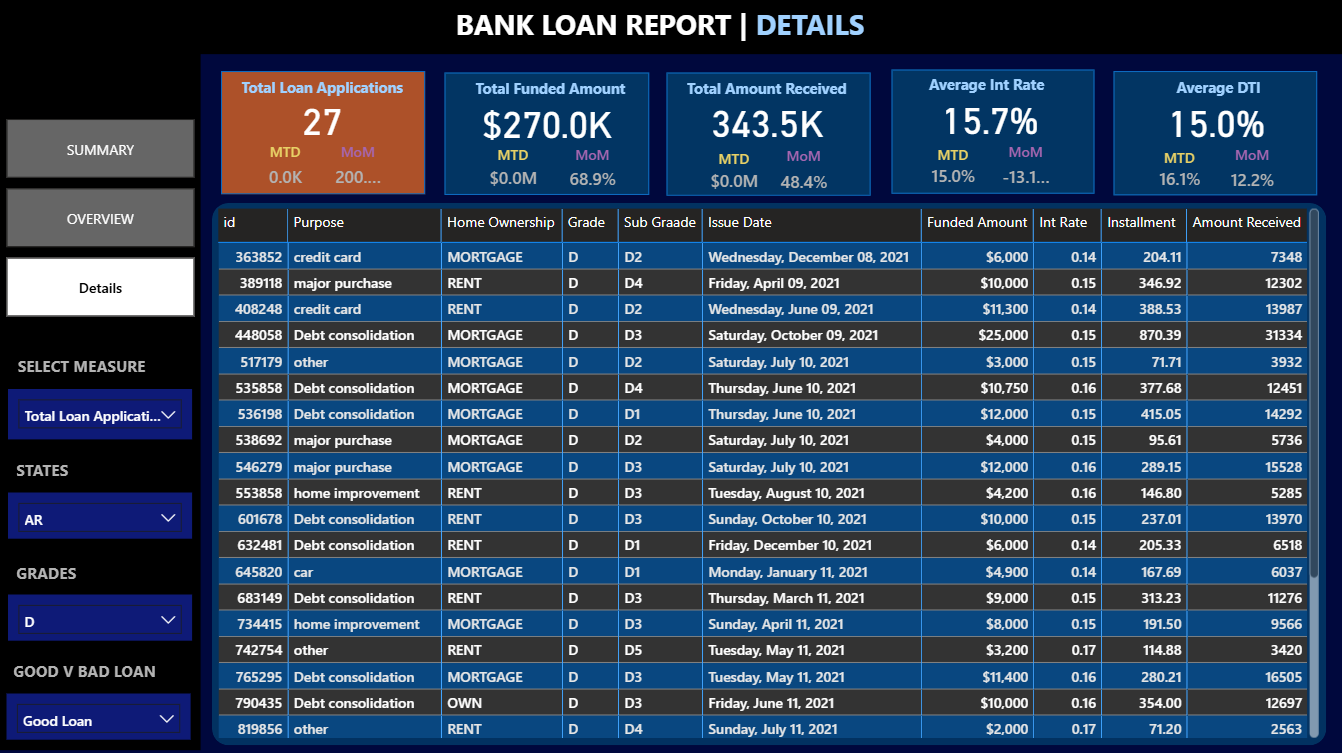

This screenshot's page, from the dashboard's own definition file:
{"tool":"powerbi","page":{"name":"Details","canvas":[1280,720],"ordinal":2},"visuals":[{"type":"shape","box":[0,52,192,664],"z":0},{"type":"shape","box":[0,0,1279.7,52.5],"z":1000},{"type":"textbox","box":[430.6,0,487.4,49.7],"z":2000},{"type":"shape","box":[849.8,67.6,193.3,118.3],"z":3000,"group":"g4"},{"type":"shape","box":[1061.5,68.5,194,118.4],"z":3000,"group":"g5"},{"type":"group","id":"g1","title":"Group 1","box":[202.9,69.1,210,120],"z":3000},{"type":"shape","box":[211,69.1,194.4,117.5],"z":3000,"group":"g1"},{"type":"shape","box":[423.7,69.7,195,116.7],"z":3000,"group":"g6"},{"type":"shape","box":[635,69.7,194.4,117.5],"z":3000,"group":"g2"},{"type":"group","id":"g2","title":"Group 1","box":[626.9,69.7,208,122],"z":4000},{"type":"card","fields":{"Values":["bank_loan_data.Total Funded Amount"]},"box":[426.6,91.1,189,50.4],"z":4000,"group":"g7"},{"type":"card","fields":{"Values":["bank_loan_data.Average Interest Rate"]},"box":[838.7,91.1,209.1,42.8],"z":4000,"group":"g4"},{"type":"card","fields":{"Values":["bank_loan_data.Total Loan Application"]},"box":[202.9,93.4,208.6,42.5],"z":4000,"group":"g1"},{"type":"card","fields":{"Values":["bank_loan_data.Avg DTI"]},"box":[1053.9,93.7,209.1,42.8],"z":4000,"group":"g5"},{"type":"card","fields":{"Values":["bank_loan_data.Total Amount Received"]},"box":[626.9,94,208.6,42.5],"z":4000,"group":"g2"},{"type":"textbox","box":[861.4,65.9,178.9,32.8],"z":5000,"group":"g4"},{"type":"textbox","box":[1097,68.9,121.5,32.4],"z":5000,"group":"g5"},{"type":"textbox","box":[225.2,69.1,180.3,32.4],"z":5000,"group":"g1"},{"type":"group","id":"g3","title":"Group 2","box":[426.6,69.7,188.3,118.3],"z":5000,"group":"g6"},{"type":"textbox","box":[447.4,69.7,165.5,32],"z":5000,"group":"g7"},{"type":"textbox","box":[649.2,69.7,180.3,32.4],"z":5000,"group":"g2"},{"type":"shape","box":[203.5,194.7,1061.2,516.4],"z":5000},{"type":"group","id":"g4","title":"Group 1","box":[838.7,65.9,209.1,123.5],"z":6000},{"type":"card","title":"MTD","fields":{"Values":["bank_loan_data.MTD Loan Applications"]},"box":[246.3,136.1,53.6,52],"z":6000,"group":"g1"},{"type":"card","title":"MTD","fields":{"Values":["bank_loan_data.MTD Funded Amount"]},"box":[451.8,137.7,73.1,47.9],"z":6000,"group":"g7"},{"type":"card","title":"MTD","fields":{"Values":["bank_loan_data.MTD Avg Int Rate"]},"box":[876.5,139,65.5,45.4],"z":6000,"group":"g4"},{"type":"card","title":"MTD","fields":{"Values":["bank_loan_data.MTD Avg DTI"]},"box":[1091.7,141.6,65.5,45.4],"z":6000,"group":"g5"},{"type":"card","title":"MTD","fields":{"Values":["bank_loan_data.MTD Total Amount Received"]},"box":[667.2,142.8,65.5,45.4],"z":6000,"group":"g2"},{"type":"group","id":"g5","title":"Group 1","box":[1053.9,68.5,208.3,125],"z":7000},{"type":"card","title":"MoM","fields":{"Values":["bank_loan_data.MoM Loan Appliocations"]},"box":[314.8,136.1,54.8,52.7],"z":7000,"group":"g1"},{"type":"card","title":"MoM","fields":{"Values":["bank_loan_data.MoM Avg Int Rate"]},"box":[949.6,136.5,55.4,52.9],"z":7000,"group":"g4"},{"type":"card","title":"MoM","fields":{"Values":["bank_loan_data.MoM Total Funded Amount"]},"box":[527.4,137.7,73.1,50.4],"z":7000,"group":"g7"},{"type":"card","title":"MoM","fields":{"Values":["bank_loan_data.MoM Avg DTI"]},"box":[1164.8,139.1,55.4,52.9],"z":7000,"group":"g5"},{"type":"card","title":"MoM","fields":{"Values":["bank_loan_data.MoM Total Amount Received"]},"box":[737.8,140.3,55.4,52.9],"z":7000,"group":"g2"},{"type":"group","id":"g6","title":"Group 4","box":[423.7,69.7,196,118],"z":8000},{"type":"group","id":"g7","title":"Group 3","box":[426.6,69.7,189,118.4],"z":8001,"group":"g3"},{"type":"slicer","fields":{"Values":["bank_loan_data.address_state"]},"box":[8.8,470.4,175,43.8],"z":9000},{"type":"textbox","box":[10.9,433.2,83.1,37.2],"z":10000},{"type":"slicer","fields":{"Values":["bank_loan_data.grade"]},"box":[8.8,566.7,175,43.8],"z":11000},{"type":"textbox","box":[10.9,531.7,81,37.2],"z":12000},{"type":"slicer","fields":{"Values":["bank_loan_data.Good vs Bad Loan"]},"box":[6.6,660.8,175,43.8],"z":13000},{"type":"textbox","box":[8.8,623.6,170.7,37.2],"z":14000},{"type":"slicer","fields":{"Values":["Select Measure.Select Measure"]},"box":[8.8,372,175,48.1],"z":15000},{"type":"textbox","box":[13.1,334.8,137.8,37.2],"z":16000},{"type":"tableEx","fields":{"Values":["bank_loan_data.id","bank_loan_data.purpose","bank_loan_data.home_ownership","bank_loan_data.grade","bank_loan_data.sub_grade","bank_loan_data.issue_date","bank_loan_data.Total Funded Amount","Sum(bank_loan_data.int_rate)","Sum(bank_loan_data.installment)","bank_loan_data.Total Amount Received"]},"box":[203.5,194.7,1059,514.2],"z":17000},{"type":"pageNavigator","box":[6.6,113.8,179.4,188.2],"z":18000}]}

Visuals, with their boxes in screenshot pixels (x1, y1, x2, y2), scaled from the page's 1280x720 canvas onto the 1342x753 screenshot:
shape: <bbox>0, 54, 201, 749</bbox>
shape: <bbox>0, 0, 1341, 55</bbox>
textbox: <bbox>451, 0, 962, 52</bbox>
shape: <bbox>891, 71, 1094, 194</bbox>
shape: <bbox>1113, 72, 1316, 195</bbox>
"Group 1" group: <bbox>213, 72, 433, 198</bbox>
shape: <bbox>221, 72, 425, 195</bbox>
shape: <bbox>444, 73, 649, 195</bbox>
shape: <bbox>666, 73, 870, 196</bbox>
"Group 1" group: <bbox>657, 73, 875, 200</bbox>
card - bank_loan_data.Total Funded Amount: <bbox>447, 95, 645, 148</bbox>
card - bank_loan_data.Average Interest Rate: <bbox>879, 95, 1099, 140</bbox>
card - bank_loan_data.Total Loan Application: <bbox>213, 98, 431, 142</bbox>
card - bank_loan_data.Avg DTI: <bbox>1105, 98, 1324, 143</bbox>
card - bank_loan_data.Total Amount Received: <bbox>657, 98, 876, 143</bbox>
textbox: <bbox>903, 69, 1091, 103</bbox>
textbox: <bbox>1150, 72, 1278, 106</bbox>
textbox: <bbox>236, 72, 425, 106</bbox>
"Group 2" group: <bbox>447, 73, 645, 197</bbox>
textbox: <bbox>469, 73, 643, 106</bbox>
textbox: <bbox>681, 73, 870, 107</bbox>
shape: <bbox>213, 204, 1326, 744</bbox>
"Group 1" group: <bbox>879, 69, 1099, 198</bbox>
"MTD" card: <bbox>258, 142, 314, 197</bbox>
"MTD" card: <bbox>474, 144, 550, 194</bbox>
"MTD" card: <bbox>919, 145, 988, 193</bbox>
"MTD" card: <bbox>1145, 148, 1213, 196</bbox>
"MTD" card: <bbox>700, 149, 768, 197</bbox>
"Group 1" group: <bbox>1105, 72, 1323, 202</bbox>
"MoM" card: <bbox>330, 142, 388, 197</bbox>
"MoM" card: <bbox>996, 143, 1054, 198</bbox>
"MoM" card: <bbox>553, 144, 630, 197</bbox>
"MoM" card: <bbox>1221, 145, 1279, 201</bbox>
"MoM" card: <bbox>774, 147, 832, 202</bbox>
"Group 4" group: <bbox>444, 73, 650, 196</bbox>
"Group 3" group: <bbox>447, 73, 645, 197</bbox>
slicer - bank_loan_data.address_state: <bbox>9, 492, 193, 538</bbox>
textbox: <bbox>11, 453, 99, 492</bbox>
slicer - bank_loan_data.grade: <bbox>9, 593, 193, 638</bbox>
textbox: <bbox>11, 556, 96, 595</bbox>
slicer - bank_loan_data.Good vs Bad Loan: <bbox>7, 691, 190, 737</bbox>
textbox: <bbox>9, 652, 188, 691</bbox>
slicer - Select Measure.Select Measure: <bbox>9, 389, 193, 439</bbox>
textbox: <bbox>14, 350, 158, 389</bbox>
tableEx - bank_loan_data.id x bank_loan_data.purpose: <bbox>213, 204, 1324, 741</bbox>
pageNavigator: <bbox>7, 119, 195, 316</bbox>
